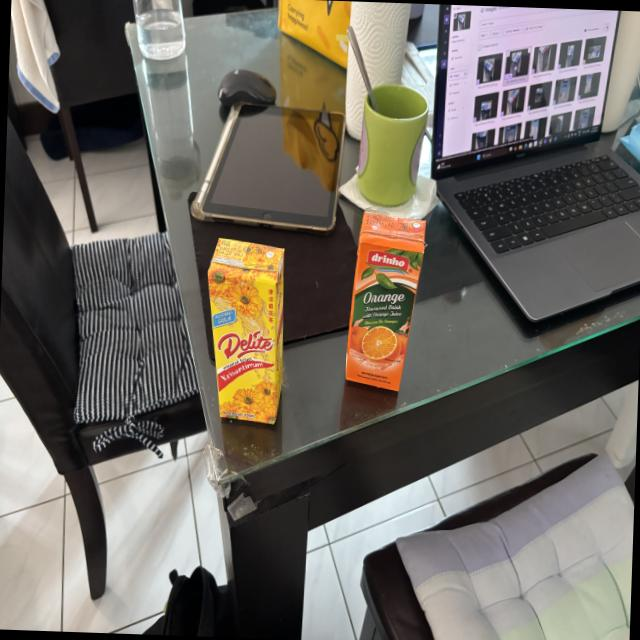drink_carton: (196, 228, 294, 440), (336, 200, 435, 406)
